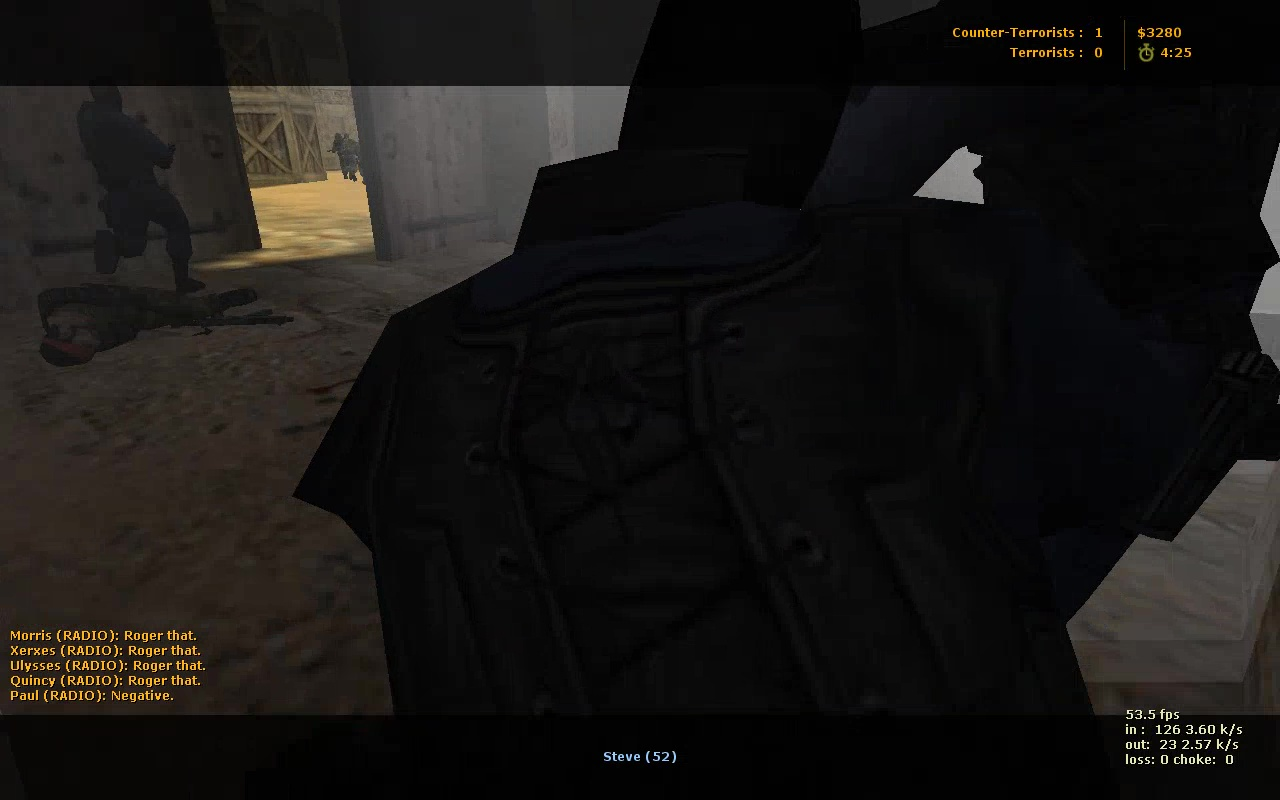ct: (69, 81, 202, 288), (339, 134, 363, 180)
dead: (33, 278, 284, 372)
